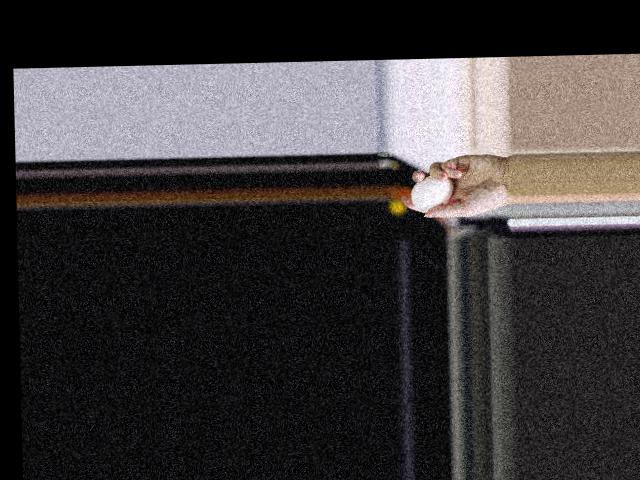egg: (409, 175, 452, 210)
